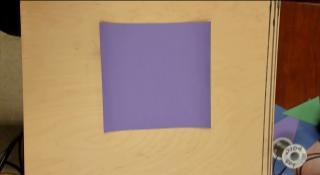Square: (100, 20, 211, 132)
